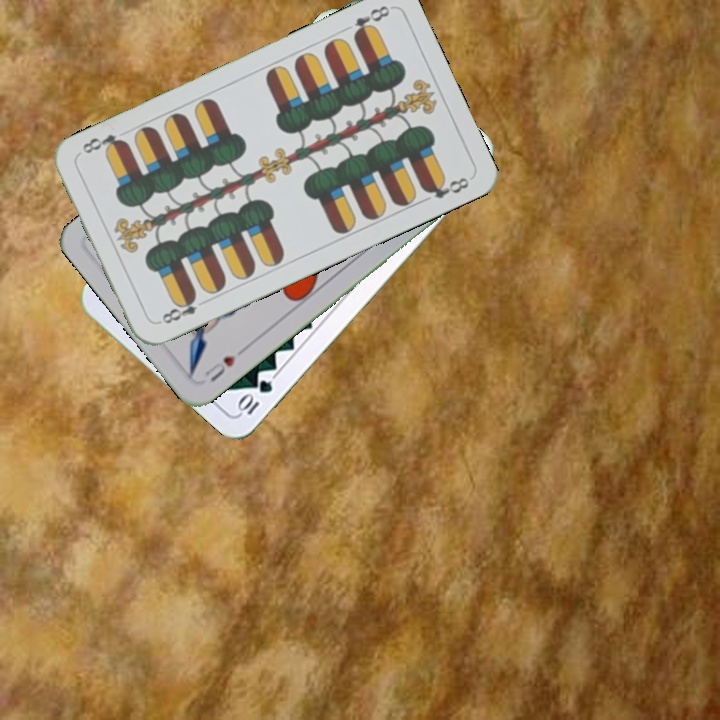E8: (154, 290, 210, 327), (349, 1, 393, 41)
G10: (234, 375, 276, 418)
HU: (200, 344, 248, 385)
